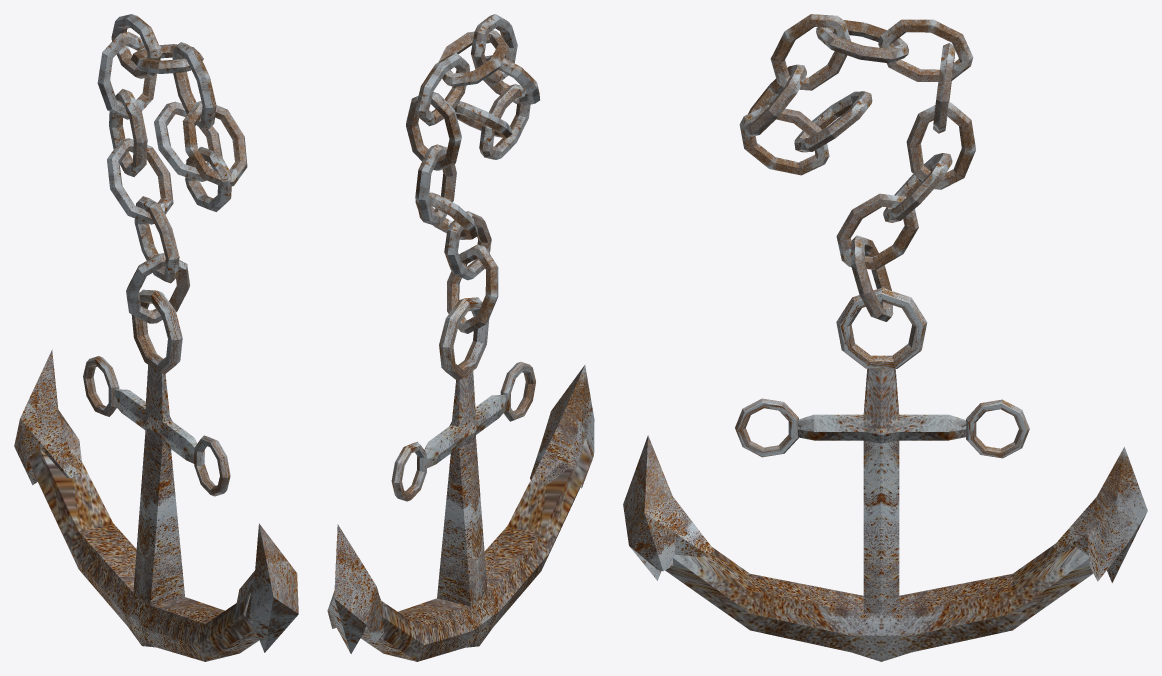
The model's file is Anchor2.fbx.
The picture shows the model from 3 angles, left to right: view 1: azimuth 30°, elevation 25°; view 2: azimuth 150°, elevation 25°; view 3: azimuth 270°, elevation 25°; orthographic projection. The views are drawn at different scales.
Visible parts, largest first — view 1: Cube.002, Cone.005, Cone.004, Torus.022, Torus.037, Torus.031, Torus.023, Torus.036, Torus.032, Torus.033, Torus.040, Torus.039 (+5 smaller); view 2: Cube.002, Cone.005, Cone.004, Torus.022, Torus.040, Torus.033, Torus.038, Torus.032, Torus.034, Torus.035, Torus.036, Torus.023 (+5 smaller); view 3: Cube.002, Cone.005, Cone.004, Torus.022, Torus.034, Torus.032, Torus.036, Torus.023, Torus.038, Torus.039, Torus.035, Torus.040 (+5 smaller).
Part boxes in pixels (x1,y1,x2,y2): Cube.002: [27, 365, 258, 661]; Cone.005: [232, 523, 298, 652]; Cone.004: [14, 349, 83, 485]; Torus.022: [131, 289, 182, 374]; Torus.037: [182, 101, 247, 186]; Torus.031: [107, 138, 173, 224]; Torus.023: [134, 196, 179, 283]; Torus.036: [172, 42, 216, 130]; Torus.032: [109, 88, 147, 176]; Torus.033: [97, 31, 156, 119]; Torus.040: [126, 253, 189, 323]; Torus.039: [154, 101, 222, 181]; Cube.002: [361, 371, 592, 661]; Cone.005: [530, 365, 594, 488]; Cone.004: [327, 524, 383, 653]; Torus.022: [439, 297, 489, 380]; Torus.040: [447, 244, 498, 333]; Torus.033: [406, 92, 461, 170]; Torus.038: [479, 84, 530, 159]; Torus.032: [415, 144, 456, 225]; Torus.034: [415, 53, 469, 126]; Torus.035: [439, 30, 509, 86]; Torus.036: [471, 14, 517, 84]; Torus.023: [444, 211, 491, 280]; Cube.002: [665, 368, 1093, 661]; Cone.005: [623, 435, 714, 580]; Cone.004: [1053, 447, 1147, 582]; Torus.022: [836, 287, 927, 368]; Torus.034: [878, 19, 973, 81]; Torus.032: [906, 102, 975, 189]; Torus.036: [770, 14, 850, 90]; Torus.023: [836, 193, 918, 269]; Torus.038: [739, 105, 829, 175]; Torus.039: [794, 91, 872, 152]; Torus.035: [816, 20, 908, 63]; Torus.040: [850, 235, 893, 321].
Bounding box in the file's own units: 71.41 × 602 × 448.
Materials: 7 (7 with a texture image).
